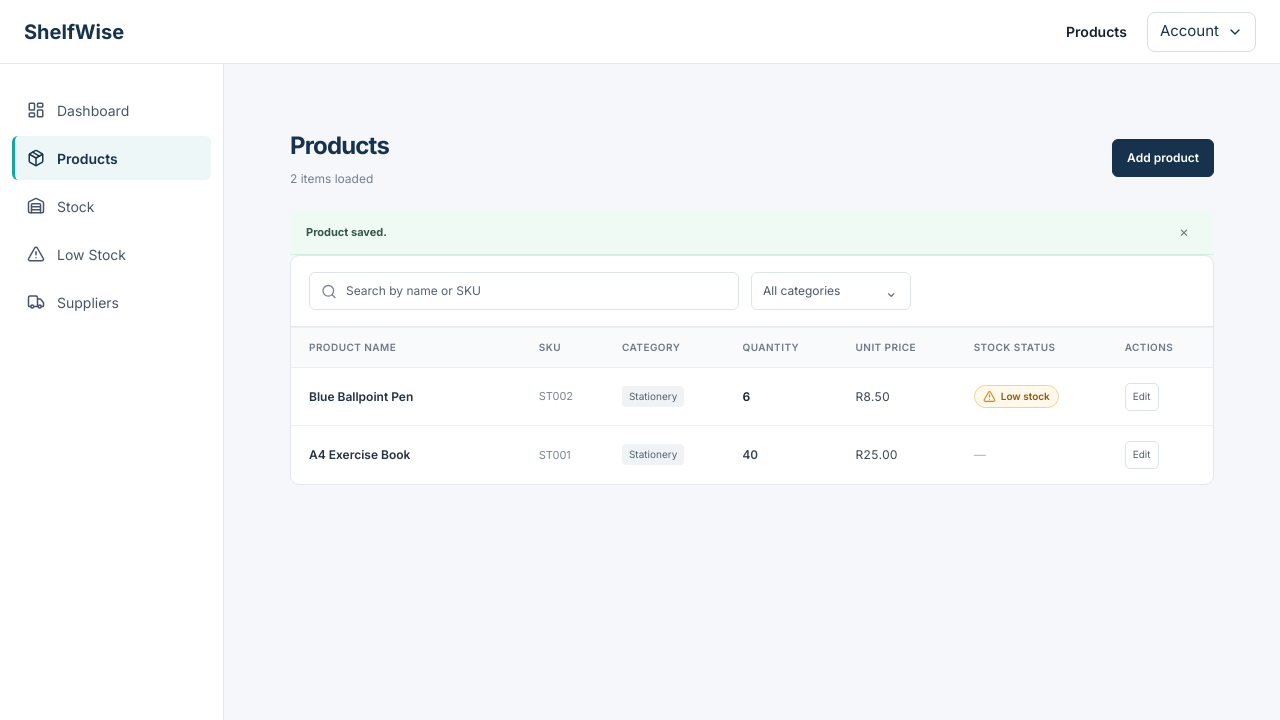
Test case: ProductCataloguePage › shows and dismisses the save notification from the product form
Expected: the message shows "Product saved.", [306,225,387,239]
Click the button named "Dismiss notification".
click(1184, 232)  # box [1170,218,1198,246]
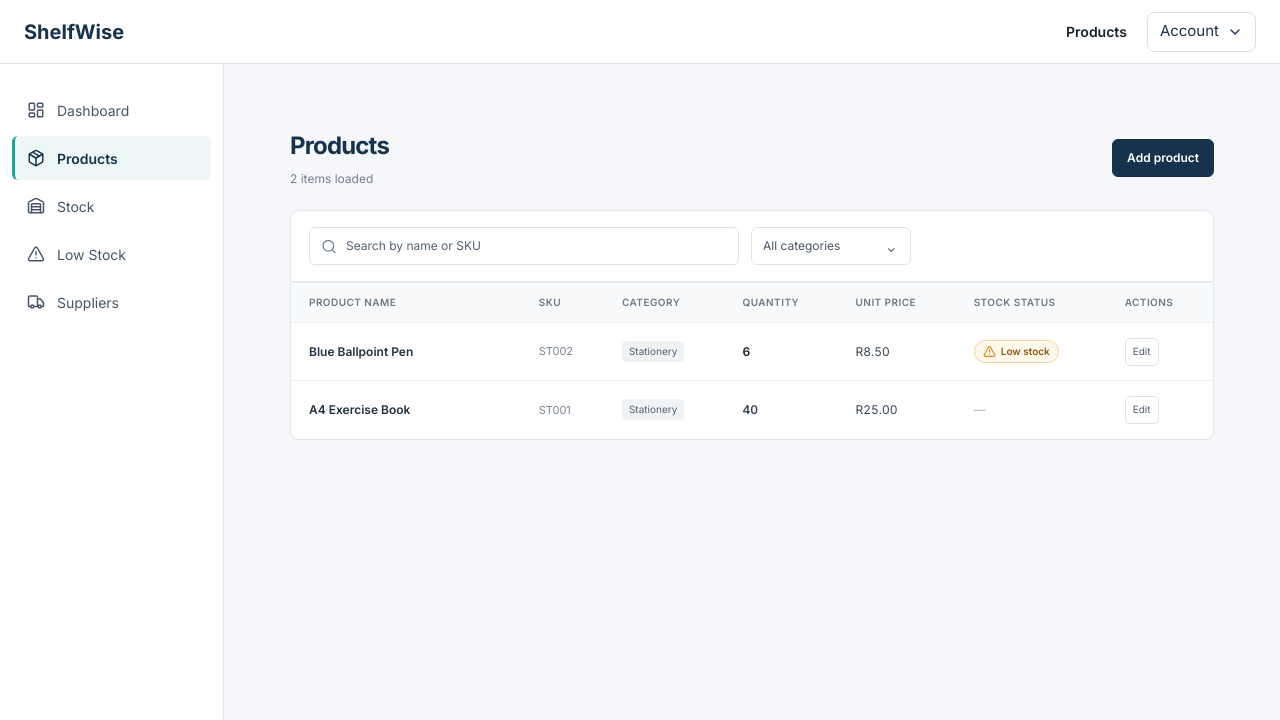
Expected: the text "Product saved." is gone
